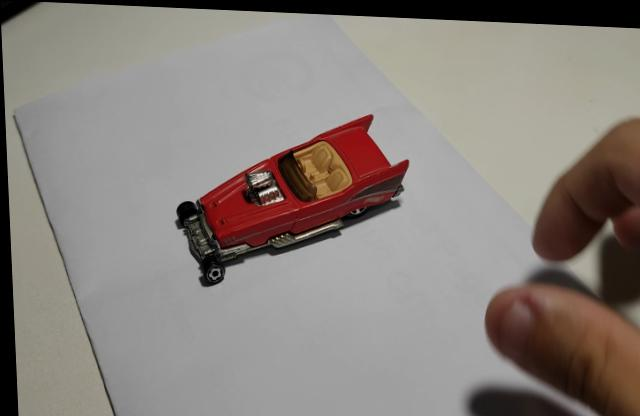03_V8: (173, 112, 409, 286)
